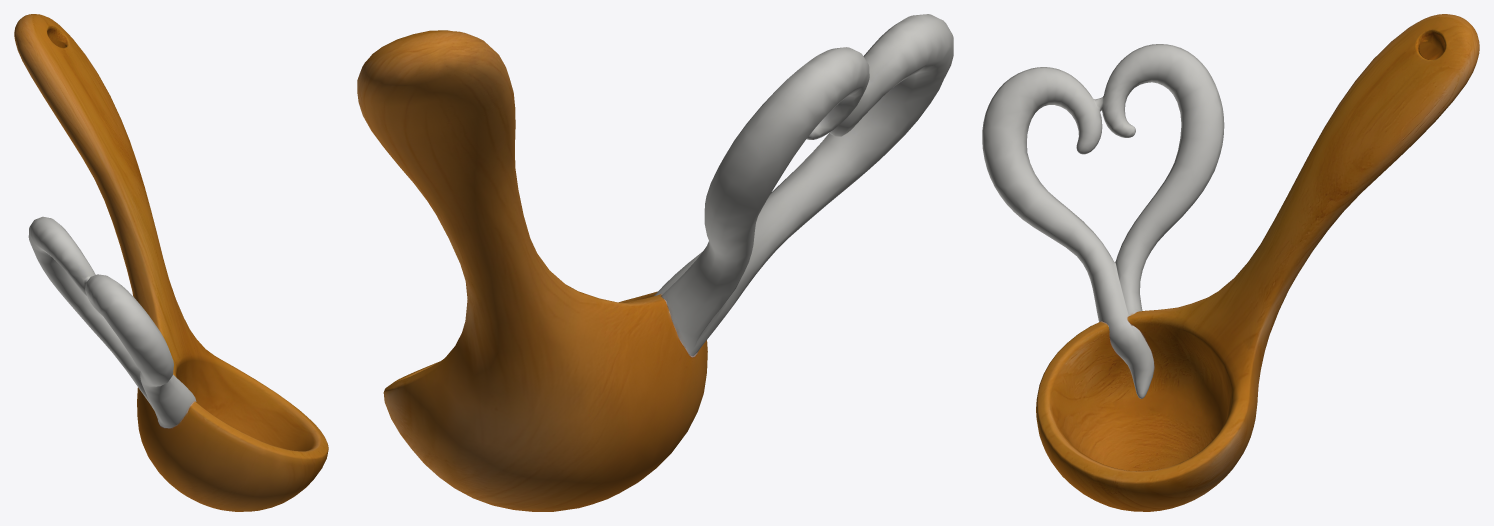
File: homemade-ladle.glb
3 renders of one model, left to right at view 1: azimuth 30°, elevation 25°; view 2: azimuth 150°, elevation 25°; view 3: azimuth 270°, elevation 25°, orthographic. The views are drawn at different scales.
Parts seen in each view (by area): view 1: tripo_node_eb7f54a2-5c7b-4144-a8fc-3bc2db5396e3; view 2: tripo_node_eb7f54a2-5c7b-4144-a8fc-3bc2db5396e3; view 3: tripo_node_eb7f54a2-5c7b-4144-a8fc-3bc2db5396e3.
Boxes of the visible parts, box(x1,y1,x2,y2) form: tripo_node_eb7f54a2-5c7b-4144-a8fc-3bc2db5396e3: box(14, 14, 328, 511); tripo_node_eb7f54a2-5c7b-4144-a8fc-3bc2db5396e3: box(357, 14, 953, 511); tripo_node_eb7f54a2-5c7b-4144-a8fc-3bc2db5396e3: box(982, 14, 1479, 511).
Size of the model in its own units: 0.7188 by 0.9995 by 1.01.
Materials: 1 (1 with a texture image).
